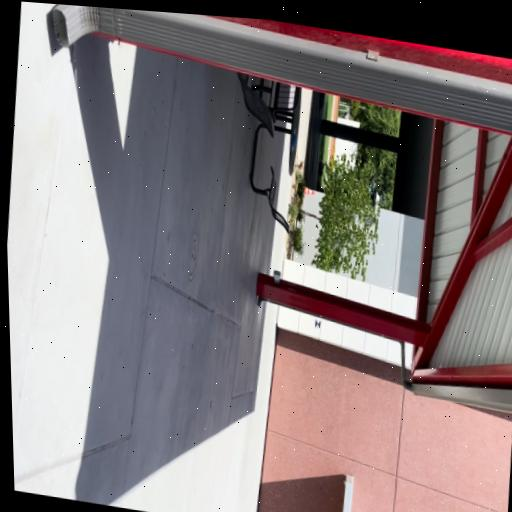target9: (314, 318, 322, 330)
